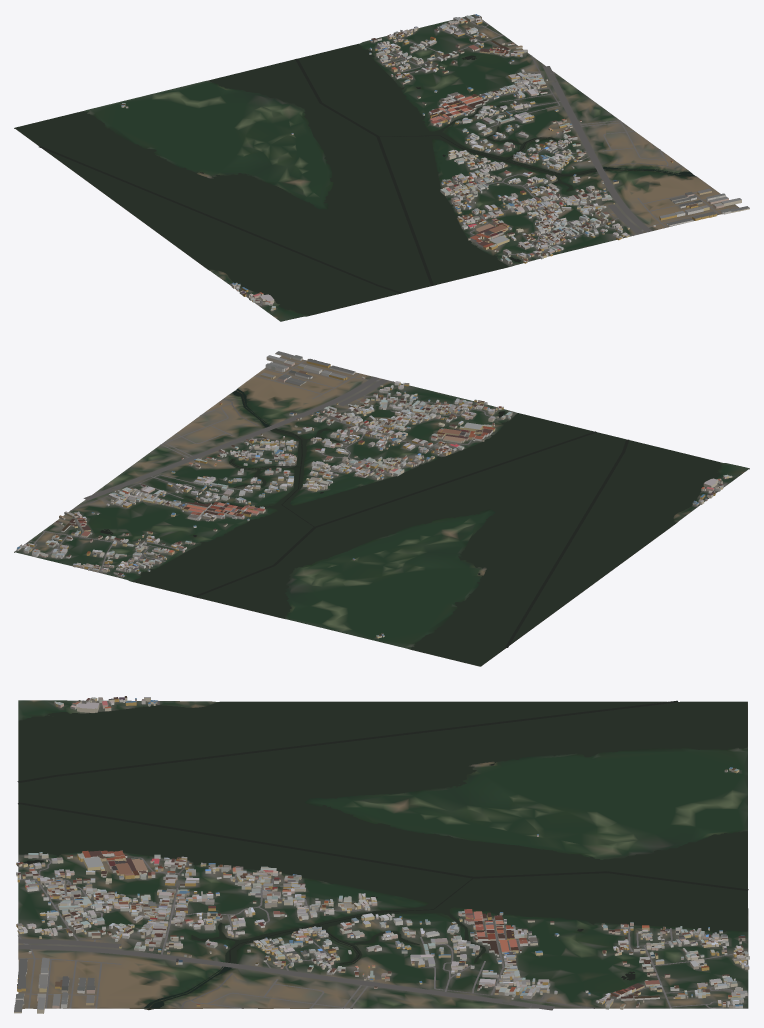
3 views of the same model, one above another, from view 1: azimuth 30°, elevation 25°; view 2: azimuth 150°, elevation 25°; view 3: azimuth 270°, elevation 25° (orthographic). The views are drawn at different scales.
Parts seen in each view (by area): view 1: water, ground, buildings, roads; view 2: water, ground, buildings, roads; view 3: water, ground, buildings, roads.
Boxes of the visible parts, box(x1,y1,x2,y2) form: water: box(15, 44, 694, 315); ground: box(14, 14, 738, 321); buildings: box(121, 14, 749, 311); roads: box(229, 21, 737, 305); water: box(100, 389, 721, 666); ground: box(14, 356, 749, 666); buildings: box(16, 351, 732, 638); roads: box(24, 357, 726, 572); water: box(17, 700, 748, 1009); ground: box(18, 700, 748, 1010); buildings: box(14, 696, 749, 1013); roads: box(18, 700, 745, 1010).
Bounding box in the file's own units: 1426 × 15.61 × 1413.
